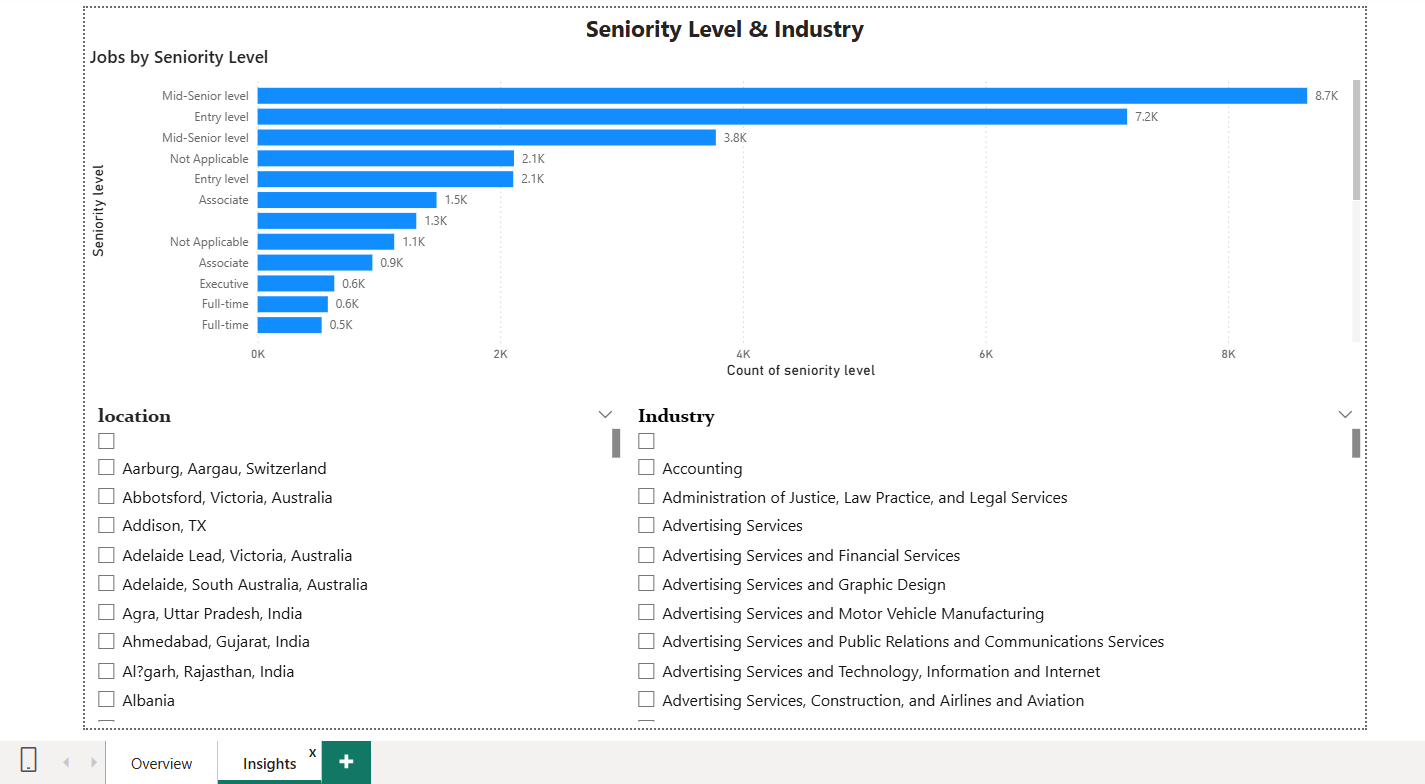

The dashboard page shown, as its layout file describes it:
{"tool":"powerbi","page":{"name":"Insights","canvas":[1280,720],"ordinal":1},"visuals":[{"type":"clusteredBarChart","title":"Jobs by Seniority Level","fields":{"Category":["job_data.seniority_level"],"Y":["CountNonNull(job_data.seniority_level)"]},"box":[0,36.1,1280.6,338.9],"z":0},{"type":"slicer","fields":{"Values":["job_data.location"]},"box":[0,391.7,540.3,327.8],"z":1},{"type":"slicer","fields":{"Values":["job_data.industry"]},"box":[540.3,391.7,740.3,327.8],"z":2},{"type":"textbox","title":"Seniority Level & Industry Insights","box":[455.6,4.2,369.4,36.1],"z":3}]}

Visuals, with their boxes on the page's 1280x720 design canvas (x1, y1, x2, y2). These are canvas units, not pixel positions in the 1425x784 screenshot, which may show the page scaled, cropped or inside an application window:
"Jobs by Seniority Level" clusteredBarChart: BBox(0, 36, 1281, 375)
slicer - job_data.location: BBox(0, 392, 540, 720)
slicer - job_data.industry: BBox(540, 392, 1281, 720)
"Seniority Level & Industry Insights" textbox: BBox(456, 4, 825, 40)
